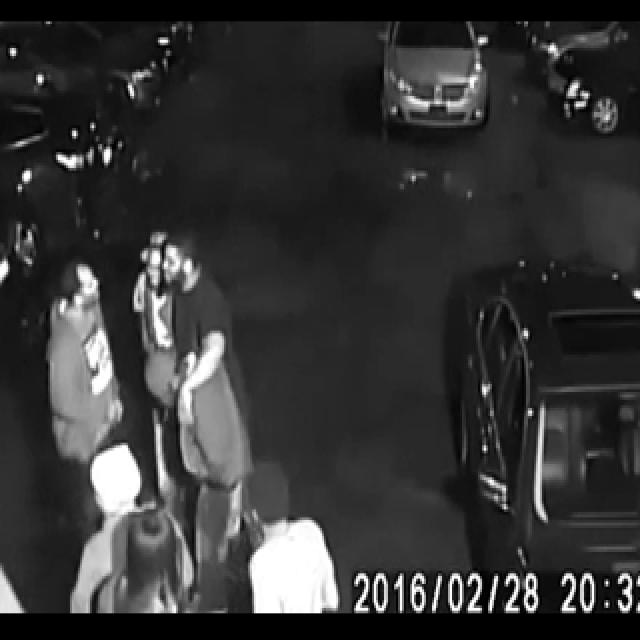shooting: (0, 203, 360, 613)
